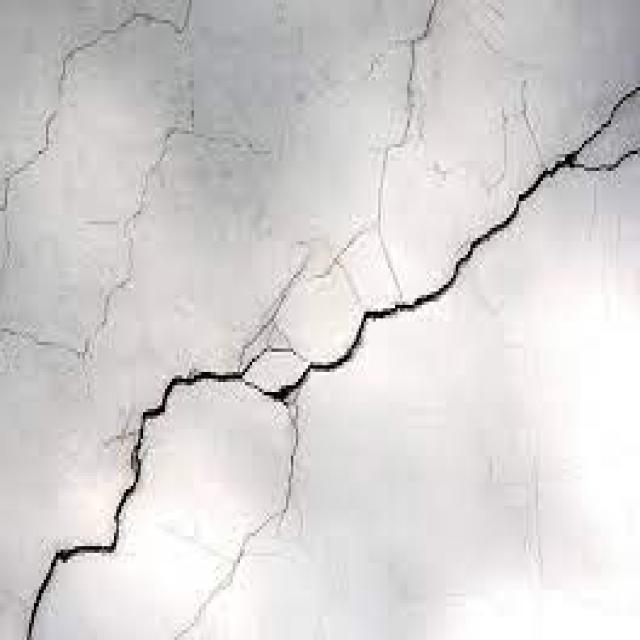Crack: (27, 84, 638, 630), (0, 77, 189, 359), (0, 0, 184, 211), (308, 0, 429, 295)
